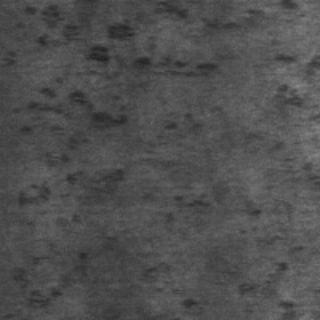rolled pit: (8, 10, 170, 208)
